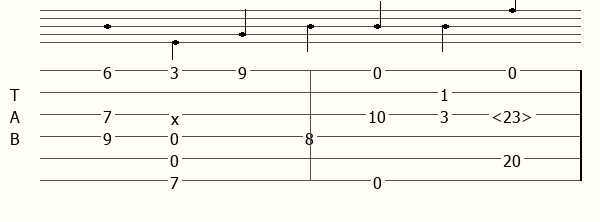0: (170, 150, 183, 166), (170, 128, 183, 144), (373, 62, 386, 78), (373, 172, 386, 188), (508, 62, 521, 78)
1: (440, 84, 453, 100)
10: (368, 106, 390, 122)
20: (503, 150, 525, 166)
3: (170, 62, 183, 78), (440, 106, 453, 122)
6: (103, 62, 116, 78)
7: (103, 106, 116, 122), (170, 172, 183, 188)
8: (305, 128, 318, 144)
9: (103, 128, 116, 144), (238, 62, 251, 78)
harmonic: (491, 106, 537, 122)
x: (171, 108, 183, 121)
